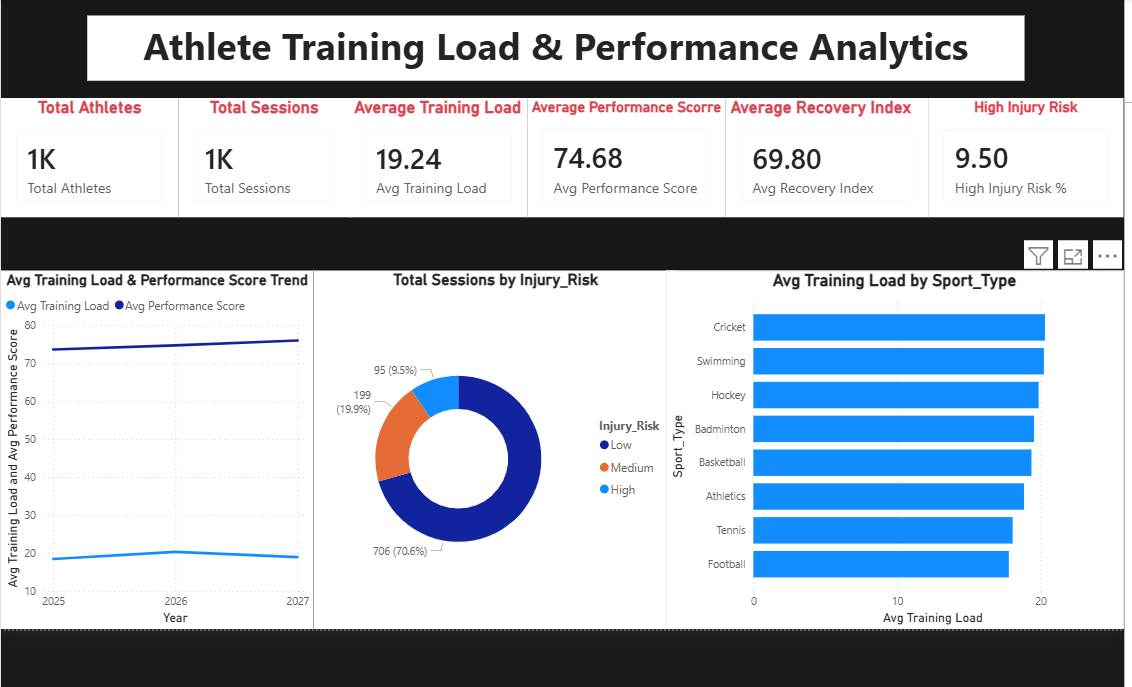

The dashboard page shown, as its layout file describes it:
{"tool":"powerbi","page":{"name":"Executive summary","canvas":[1280,720],"ordinal":0},"visuals":[{"type":"cardVisual","title":"Total Athletes","fields":{"Data":["Table.Total Athletes"]},"box":[0,114.4,202.3,136.4],"z":0},{"type":"cardVisual","title":"Total Sessions","fields":{"Data":["Table.Total Sessions"]},"box":[202.3,114.4,195.7,136.4],"z":1000},{"type":"cardVisual","title":"Average Training Load","fields":{"Data":["Table.Avg Training Load"]},"box":[398.1,114.4,202.3,136.4],"z":2000},{"type":"cardVisual","title":"Average Performance Scorre","fields":{"Data":["Table.Avg Performance Score"]},"box":[600.4,114.4,226.5,136.4],"z":3000},{"type":"cardVisual","title":"Average Recovery Index","fields":{"Data":["Table.Avg Recovery Index"]},"box":[826.9,114.4,230.9,136.4],"z":4000},{"type":"cardVisual","title":"High Injury Risk","fields":{"Data":["Table.High Injury Risk %"]},"box":[1057.9,114.4,222.1,136.4],"z":5000},{"type":"donutChart","fields":{"Category":["cleaned_athlete_training_data.Injury_Risk"],"Y":["Table.Total Sessions"]},"box":[356.3,310.1,415.7,409.1],"z":6000},{"type":"clusteredBarChart","fields":{"Category":["cleaned_athlete_training_data.Sport_Type"],"Y":["Table.Avg Training Load"]},"box":[758.8,310.1,521.2,409.1],"z":7000},{"type":"lineChart","title":"Avg Training Load & Performance Score Trend","fields":{"Y":["Table.Avg Training Load","Table.Avg Performance Score"],"Category":["cleaned_athlete_training_data.Date.Variation.Date Hierarchy.Year","cleaned_athlete_training_data.Date.Variation.Date Hierarchy.Quarter","cleaned_athlete_training_data.Date.Variation.Date Hierarchy.Month","cleaned_athlete_training_data.Date.Variation.Date Hierarchy.Day"]},"box":[0,310.1,356.3,409.1],"z":8000},{"type":"textbox","box":[99,19.8,1068.9,74.8],"z":9000}]}

Visuals, with their boxes in screenshot pixels (x1, y1, x2, y2):
"Total Athletes" cardVisual: Rect(3, 97, 179, 216)
"Total Sessions" cardVisual: Rect(179, 97, 350, 216)
"Average Training Load" cardVisual: Rect(350, 97, 527, 216)
"Average Performance Scorre" cardVisual: Rect(527, 97, 724, 216)
"Average Recovery Index" cardVisual: Rect(724, 97, 926, 216)
"High Injury Risk" cardVisual: Rect(926, 97, 1119, 216)
donutChart - cleaned_athlete_training_data.Injury_Risk x Table.Total Sessions: Rect(314, 268, 676, 624)
clusteredBarChart - cleaned_athlete_training_data.Sport_Type x Table.Avg Training Load: Rect(665, 268, 1119, 624)
"Avg Training Load & Performance Score Trend" lineChart: Rect(3, 268, 314, 624)
textbox: Rect(89, 14, 1022, 80)
